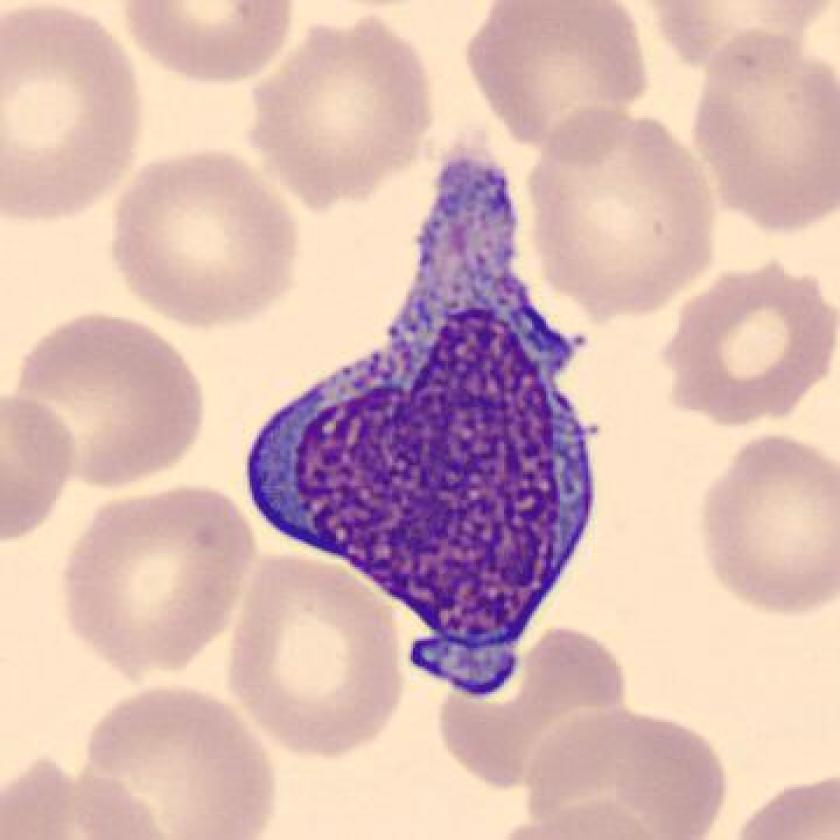monocyte: (220, 129, 622, 719)
